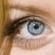eye: (28, 21, 45, 35)
